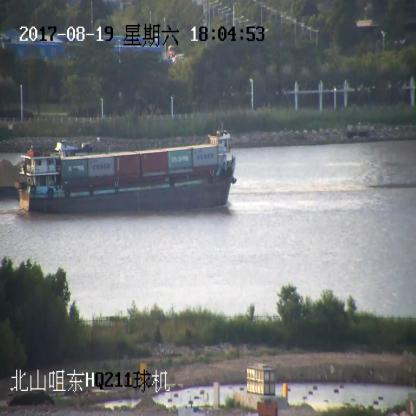Container Ship: (17, 130, 235, 212)
